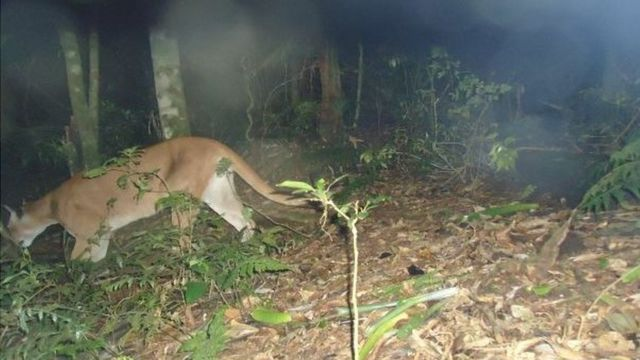OncaParda: (6, 133, 318, 262)
